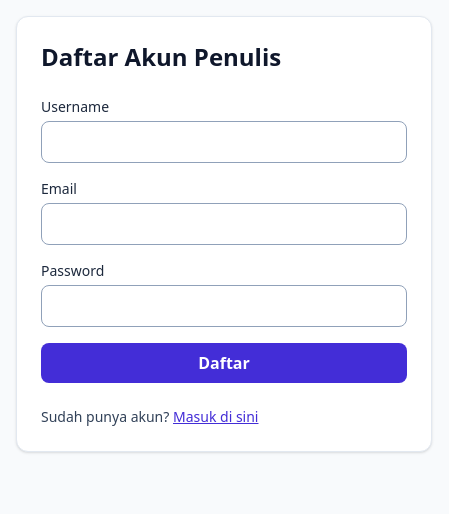
it: AuthPage (register) › menolak bila email kosong
Step 1. Type "budi" into the field labelled "Username" → {"x": 224, "y": 142}, box x1=41 y1=121 x2=407 y2=163
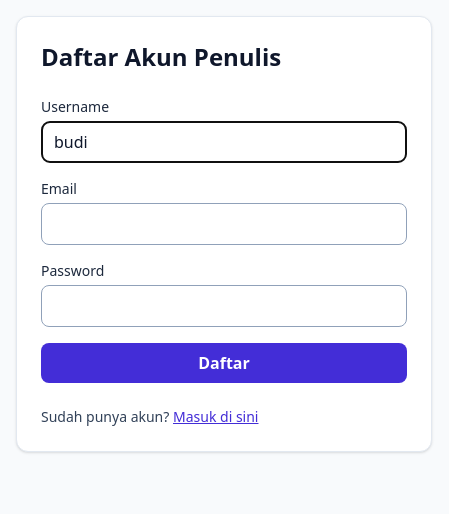
Step 2. Type "rahasia" into the password field labelled "Password" → {"x": 224, "y": 306}, box x1=41 y1=285 x2=407 y2=327
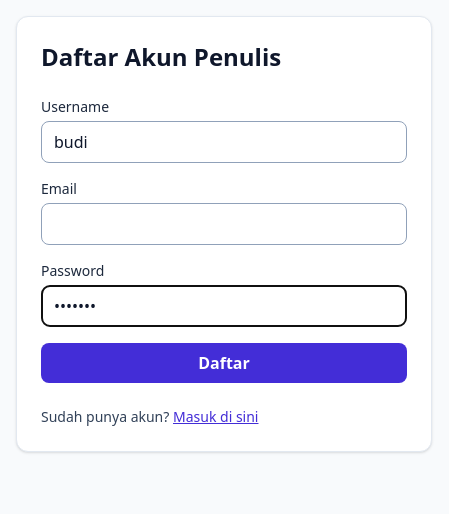
Step 3. Click the button "Daftar" → {"x": 224, "y": 363}, box x1=41 y1=343 x2=407 y2=383
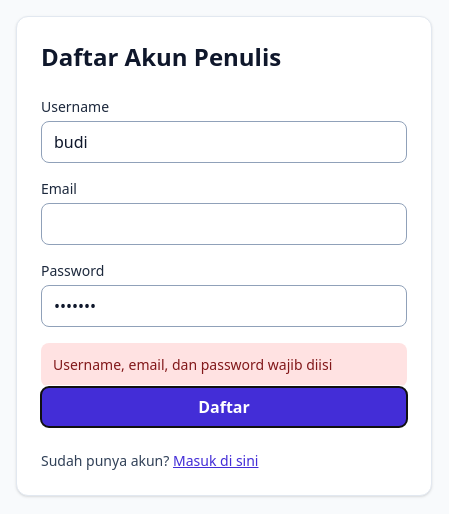
Now the message reads "Username, email, dan password wajib diisi", box x1=53 y1=355 x2=332 y2=374
